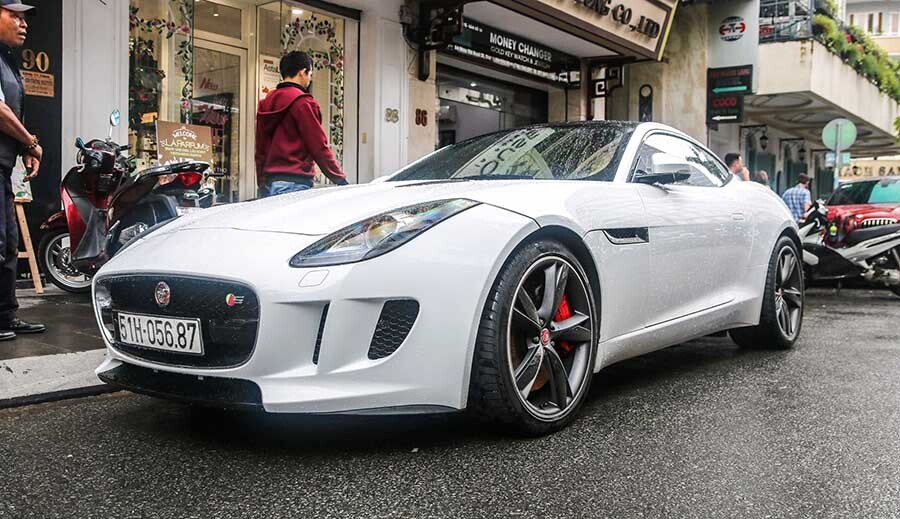number_plate: (111, 300, 210, 363)
